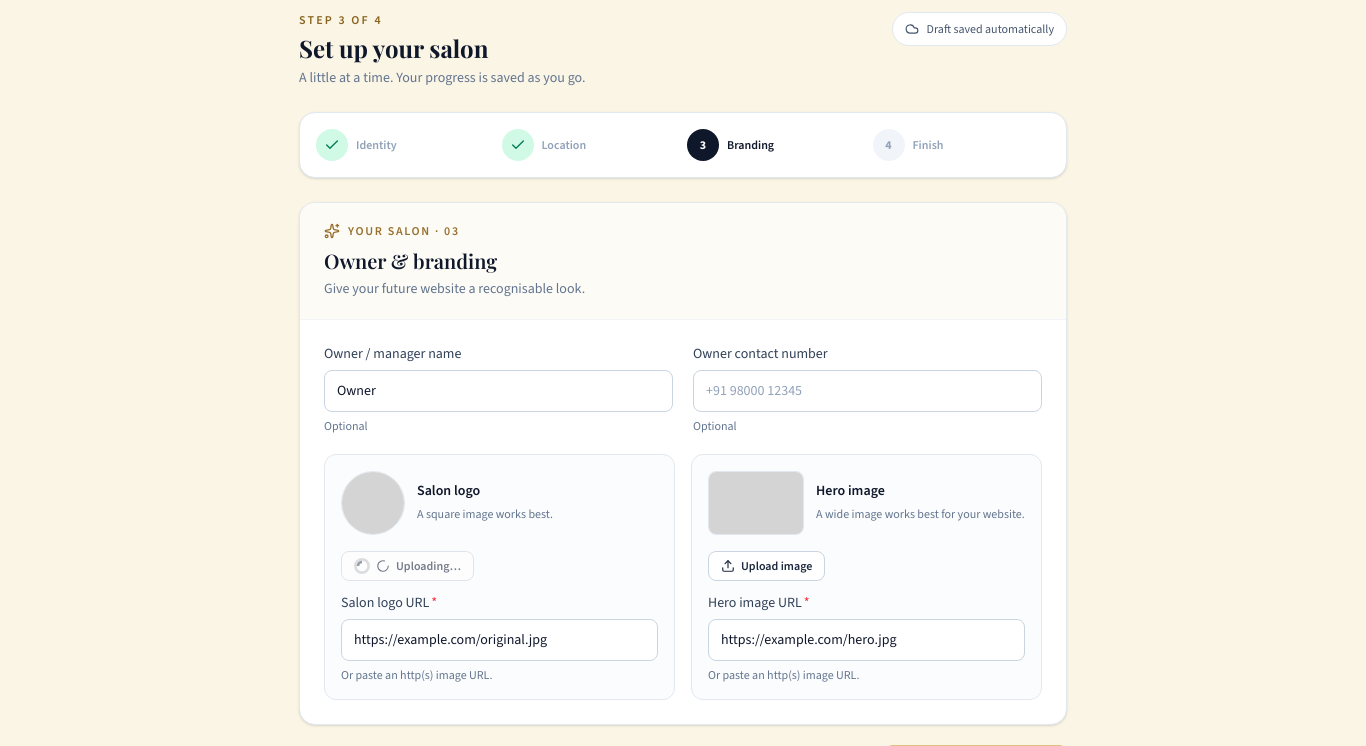
Test: salon onboarding wizard › keeps a removed upload from changing a conflict-restored earlier step
This screenshot has width=1366, height=746.
Earlier steps of the test are not shown.
Check: the heading "Owner & branding" is shown, box [324,247,497,274]
Replace the text in the field labelled "Owner / manager name" with "Unsynced owner" at (498, 391), box [324,370,673,412]
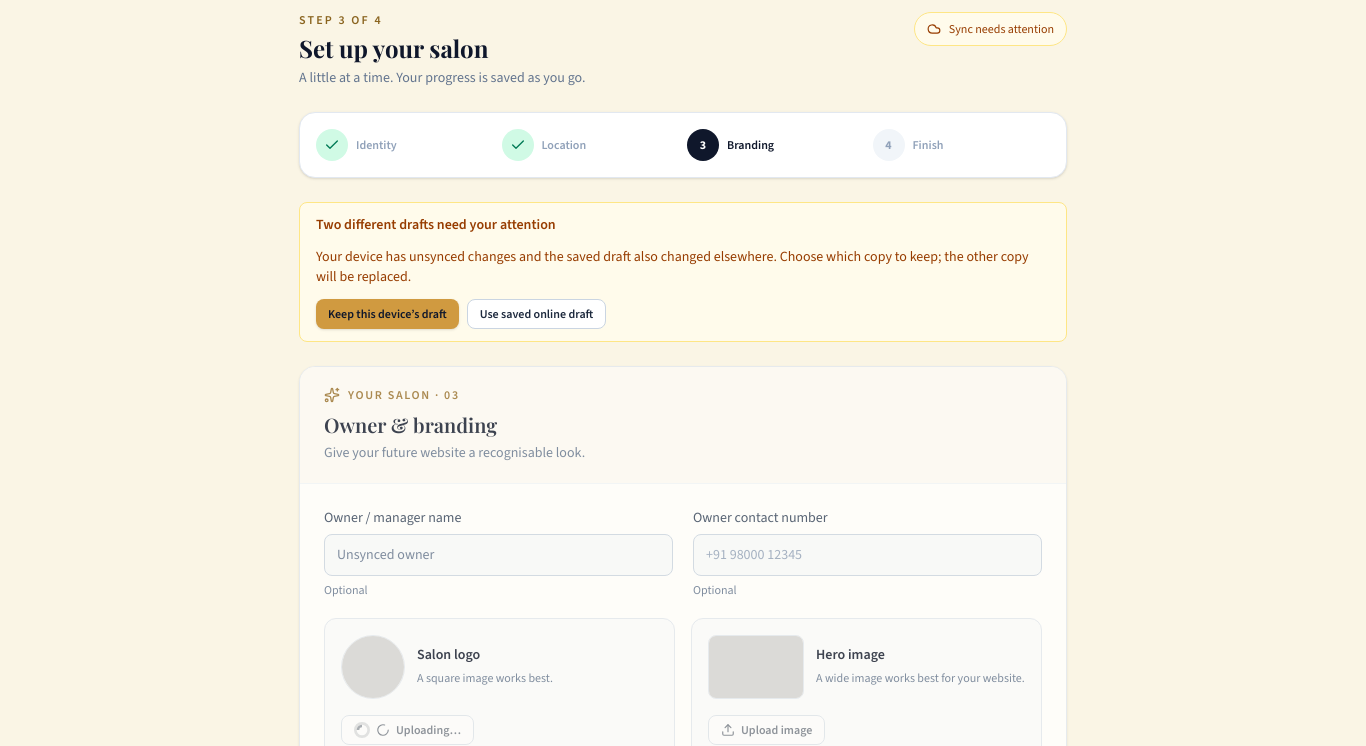
Check: the text "Two different drafts need your attention" is shown, box [316,215,556,234]
Click the button "Use saved online draft" at (536, 314), box [467,299,606,329]
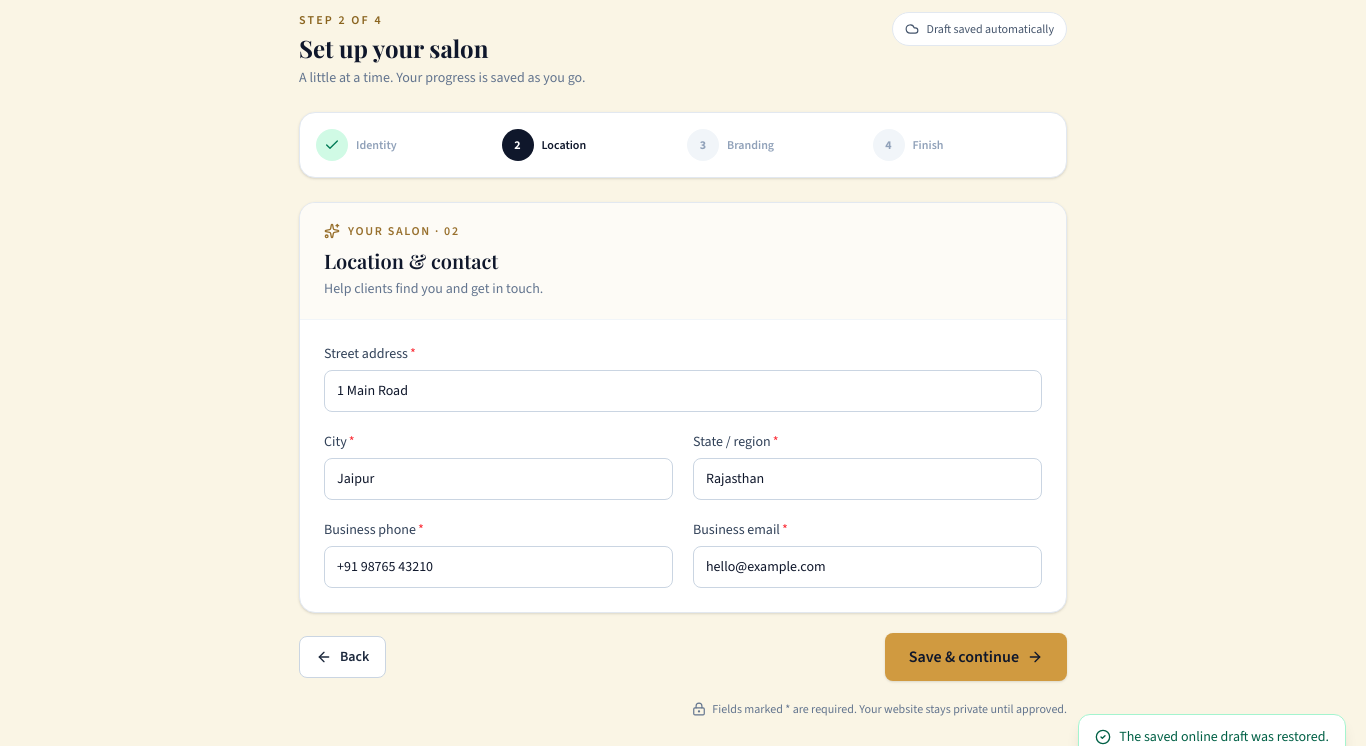
Check: the heading "Location & contact" is shown, box [324,247,498,274]
Check: the button "Save & continue" is enabled
Click the button "Save & continue" at (976, 657), box [885,633,1067,681]
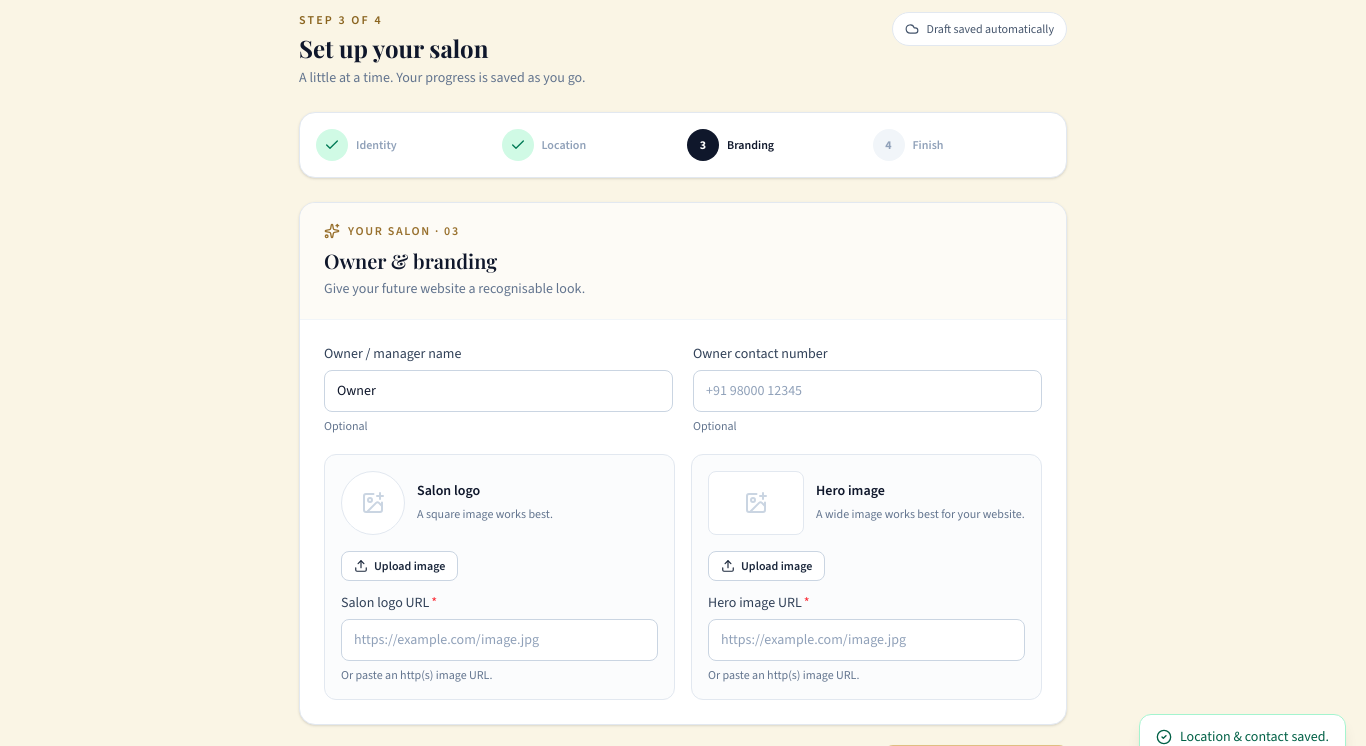
Check: the heading "Owner & branding" is shown, box [324,247,497,274]
Check: the field labelled "Salon logo URL" is empty, box [341,619,658,661]
